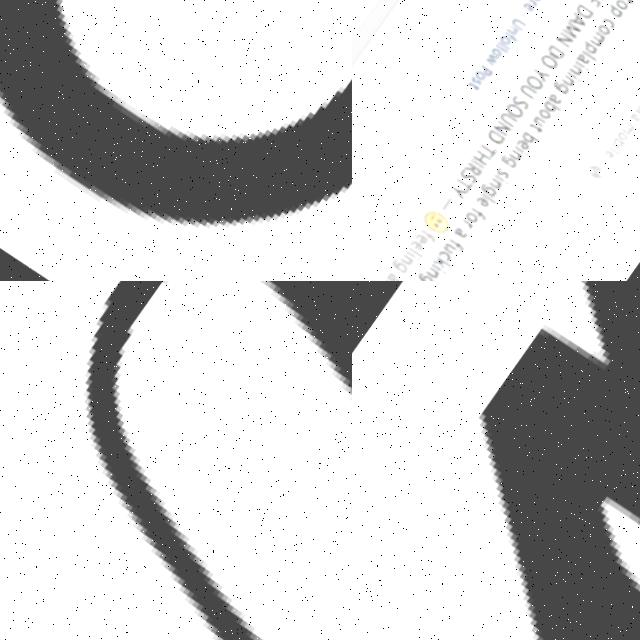A: (567, 23, 590, 44), (546, 101, 565, 121), (574, 64, 591, 80), (452, 235, 468, 252), (530, 3, 543, 16), (629, 125, 640, 138), (384, 277, 402, 281)
B: (518, 139, 541, 162), (541, 110, 562, 131), (611, 148, 629, 167)
C: (437, 257, 453, 274), (601, 29, 617, 45)
D: (545, 54, 567, 76), (485, 137, 507, 159), (575, 15, 595, 35)
E: (583, 5, 602, 24), (514, 146, 532, 164), (407, 246, 425, 263), (474, 204, 491, 220), (413, 240, 429, 256), (602, 161, 616, 177), (522, 12, 536, 27)
F: (445, 246, 466, 265), (468, 215, 488, 234), (419, 236, 437, 253), (504, 41, 518, 55)
G: (478, 190, 498, 211), (551, 90, 570, 109), (499, 163, 518, 182), (389, 264, 408, 281)
H: (470, 157, 493, 179), (533, 0, 550, 12)
I: (512, 154, 531, 171), (491, 182, 509, 199), (572, 70, 590, 86), (403, 257, 421, 273), (566, 82, 581, 97), (428, 269, 446, 281), (470, 168, 485, 182), (609, 156, 621, 167), (633, 121, 640, 132)
K: (431, 262, 452, 281)
L: (580, 61, 598, 76), (479, 202, 496, 217), (408, 254, 424, 269), (607, 158, 622, 171), (498, 52, 510, 63), (496, 55, 508, 65)
M: (561, 31, 583, 54), (588, 44, 606, 63), (619, 134, 635, 150)
N: (554, 41, 574, 62), (492, 129, 512, 150), (506, 158, 523, 174), (567, 74, 583, 90), (398, 260, 414, 276), (489, 187, 503, 202), (561, 86, 575, 101), (507, 35, 519, 47), (423, 273, 439, 281)
O: (537, 63, 559, 85), (524, 83, 546, 105), (504, 111, 526, 133), (534, 116, 553, 135), (464, 219, 480, 236), (614, 11, 630, 27), (596, 36, 612, 52), (499, 44, 513, 59), (490, 55, 504, 70), (617, 143, 630, 156), (475, 80, 488, 93)
P: (605, 16, 624, 34), (580, 52, 599, 70), (477, 71, 495, 90)
R: (464, 170, 483, 189), (460, 227, 473, 241), (528, 9, 538, 19)
S: (509, 103, 532, 125), (458, 176, 479, 197), (587, 0, 608, 17), (495, 176, 511, 192), (621, 0, 637, 15), (470, 86, 483, 98), (536, 0, 554, 6)
T: (452, 183, 474, 205), (476, 149, 497, 170), (618, 5, 634, 22), (528, 132, 544, 148), (467, 90, 480, 103)
U: (0, 281, 352, 640), (496, 119, 519, 141), (518, 92, 540, 114), (510, 27, 529, 45), (532, 126, 546, 142), (443, 250, 457, 266), (592, 0, 614, 10)
V: (635, 117, 640, 130)
W: (352, 281, 640, 640), (483, 62, 499, 79)
Y: (530, 75, 552, 97), (445, 190, 467, 212)
